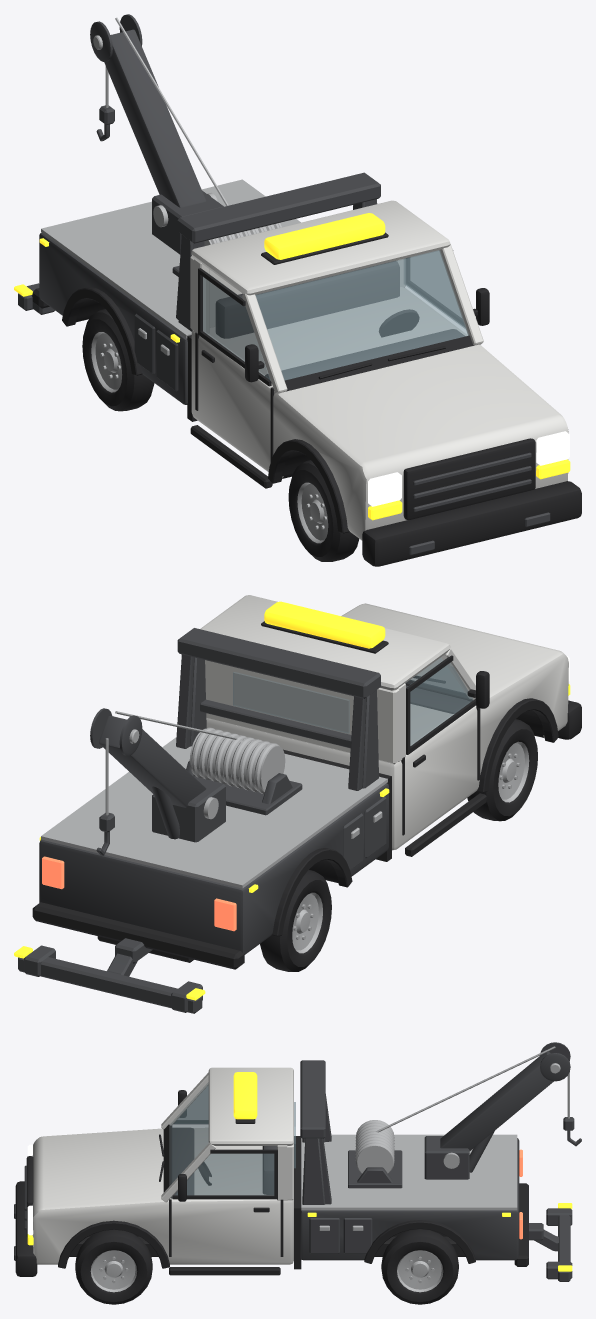
The model's file is TowTruck.fbx.
The picture shows the model from 3 angles, top to bottom: view 1: azimuth 30°, elevation 25°; view 2: azimuth 150°, elevation 25°; view 3: azimuth 270°, elevation 25°; orthographic projection. The views are drawn at different scales.
Visible parts, largest first — view 1: TowTruck_Mesh; view 2: TowTruck_Mesh; view 3: TowTruck_Mesh.
Boxes of the visible parts, x1,y1,x2,y2 form: TowTruck_Mesh: (14, 14, 581, 566); TowTruck_Mesh: (14, 595, 581, 1013); TowTruck_Mesh: (14, 1042, 581, 1304).
Bounding box in the file's own units: 2.3 × 2.74 × 6.31.
